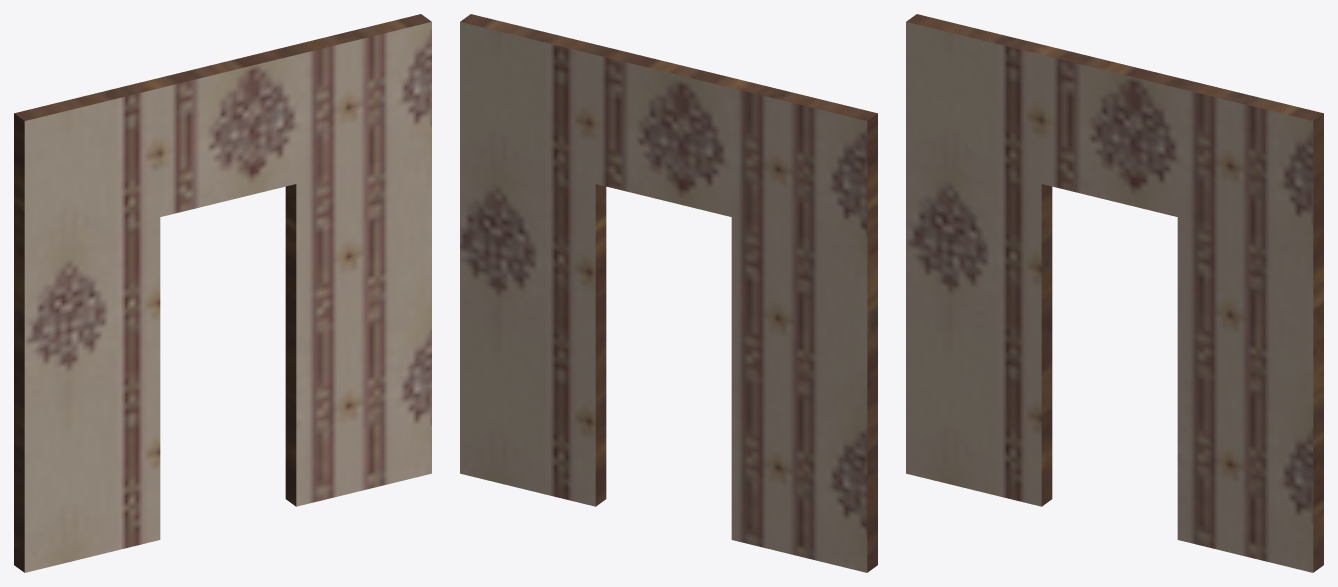
Rendered from 0_wall_5_woqr.dae.
The picture shows the model from 3 angles, left to right: view 1: azimuth 30°, elevation 25°; view 2: azimuth 150°, elevation 25°; view 3: azimuth 330°, elevation 25°; orthographic projection.
Visible parts, largest first — view 1: Plane.001; view 2: Plane.001; view 3: Plane.001.
Part boxes in pixels (bbox=[...]): Plane.001: bbox=[14, 14, 431, 572]; Plane.001: bbox=[460, 14, 877, 572]; Plane.001: bbox=[906, 14, 1323, 572].
Size of the model in its own units: 3.3 by 0.15 by 3.5.
Materials: 1 (1 with a texture image).
